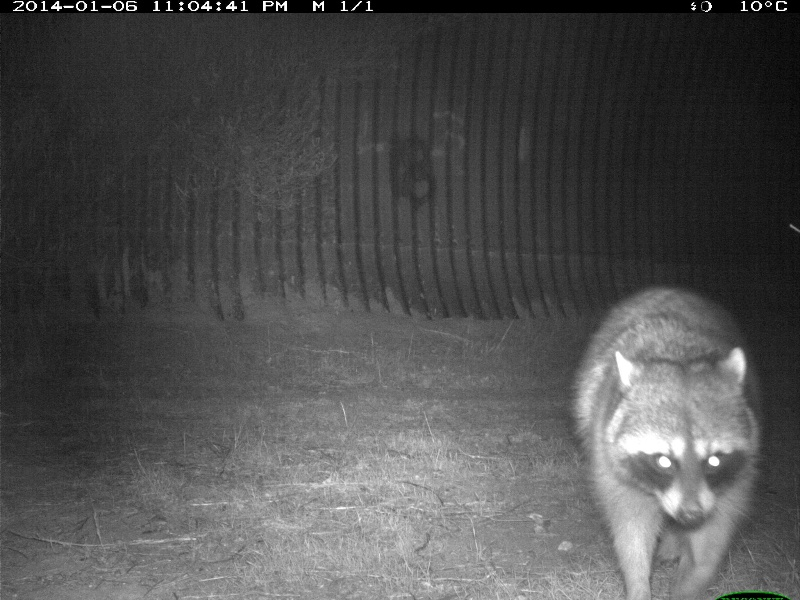raccoon: (569, 280, 766, 587)
